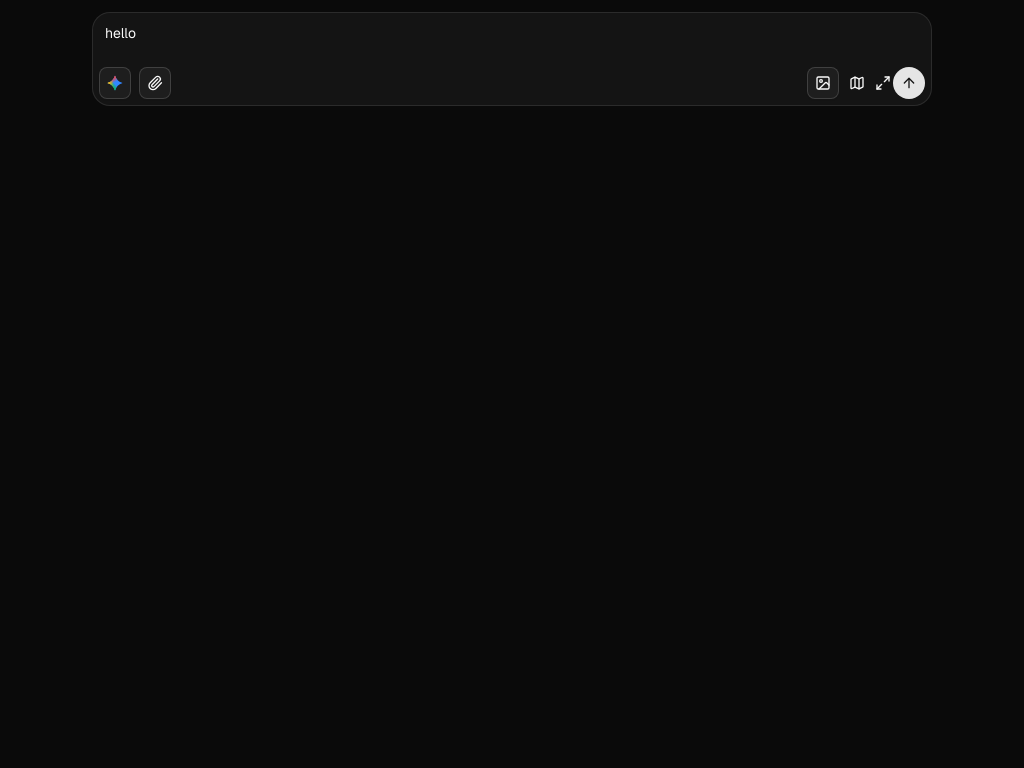
it: Composer image mode › shows Gemini resolution tiers for aspect-ratio models
Check: the button named "gemini-3-pro-image" is enabled, box [99,67,131,99]
What coordinates should you click on to do the following:
click the button named "Image settings"
I would click on:
 (823, 83)
Its box is [807,67,839,99].
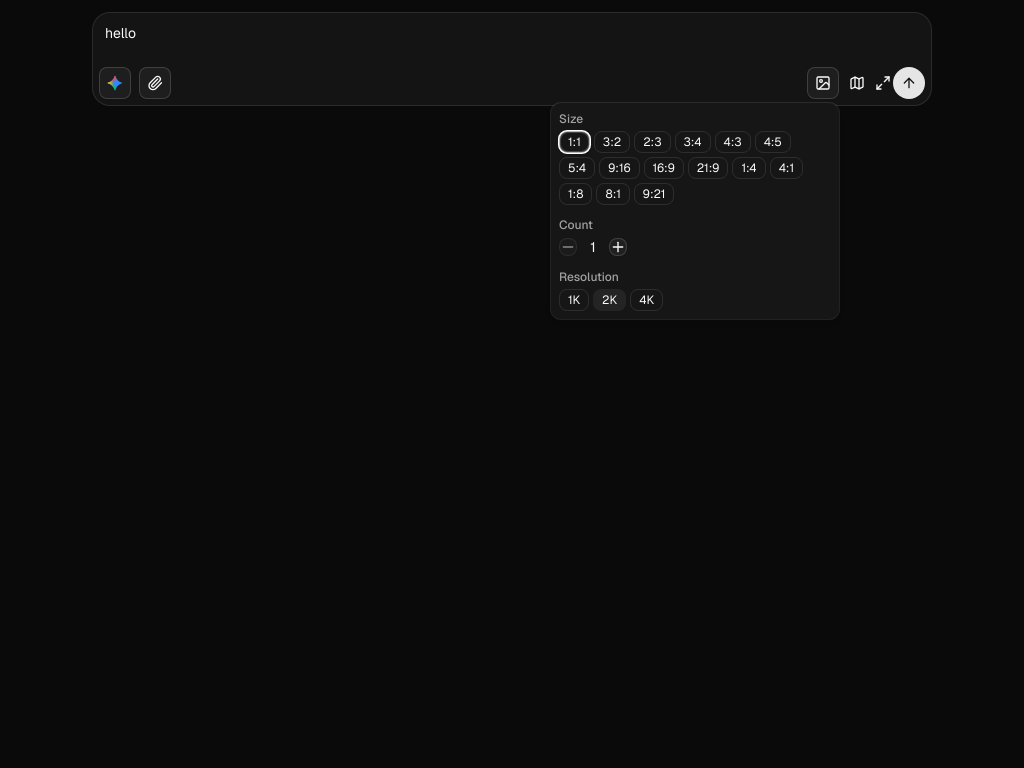
Check: the text "Resolution" is shown, box [559,269,619,285]
Check: the button "16:9" is shown, box [644,157,684,179]
